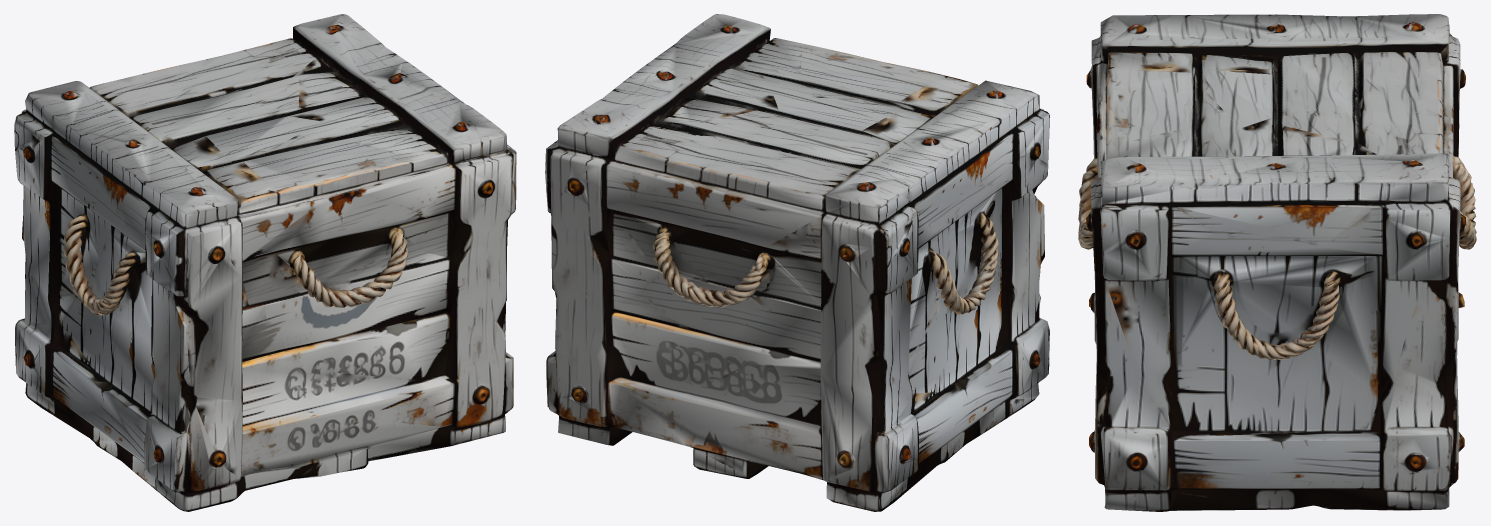
The model's file is lhi_wooden_crate.glb.
The picture shows the model from 3 angles, left to right: view 1: azimuth 30°, elevation 25°; view 2: azimuth 150°, elevation 25°; view 3: azimuth 270°, elevation 25°; orthographic projection. The views are drawn at different scales.
Visible parts, largest first — view 1: material; view 2: material; view 3: material.
Part boxes in pixels (box(x1,y1,x2,y2)): material: box(14, 14, 516, 511); material: box(545, 14, 1049, 511); material: box(1078, 14, 1476, 511).
Bounding box in the file's own units: 0.8352 × 0.7059 × 0.749.
Materials: 1 (1 with a texture image).
